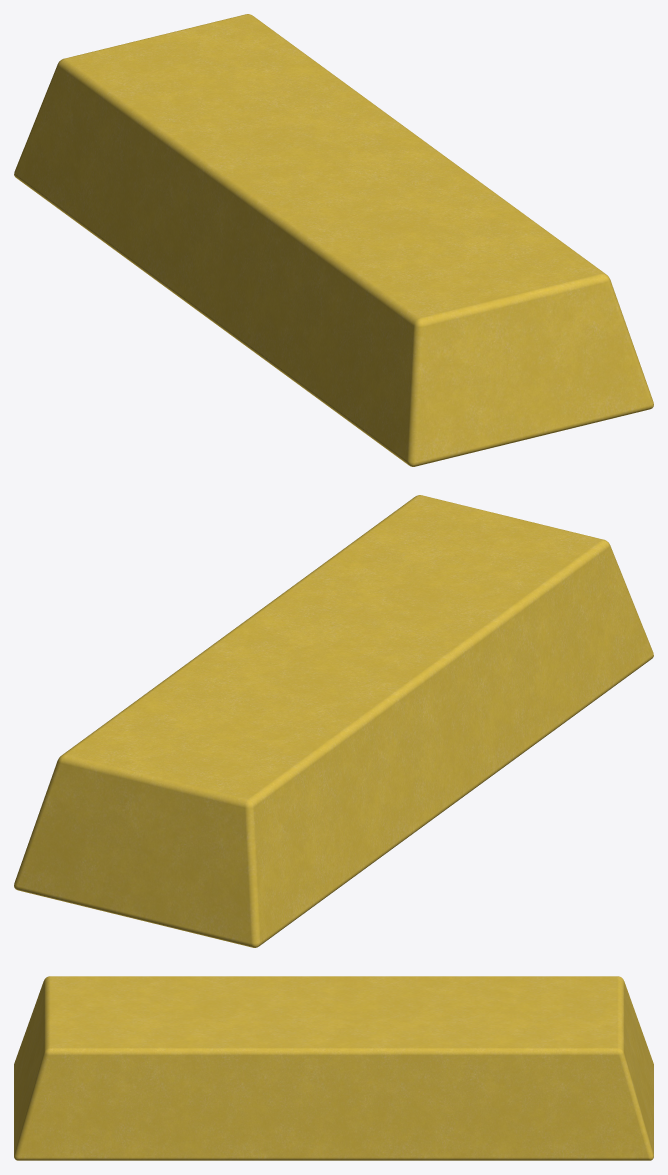
File: 12-5kg-altin.glb
3 renders of one model, top to bottom at view 1: azimuth 30°, elevation 25°; view 2: azimuth 150°, elevation 25°; view 3: azimuth 270°, elevation 25°, orthographic. The views are drawn at different scales.
Parts seen in each view (by area): view 1: SM__asset_goldblock125_001; view 2: SM__asset_goldblock125_001; view 3: SM__asset_goldblock125_001.
Boxes of the visible parts, bbox=[...] form: SM__asset_goldblock125_001: bbox=[14, 14, 653, 466]; SM__asset_goldblock125_001: bbox=[14, 495, 653, 947]; SM__asset_goldblock125_001: bbox=[14, 976, 653, 1160].
Size of the model in its own units: 0.0632 by 0.0313 by 0.178.
1 material, 1 textured.
